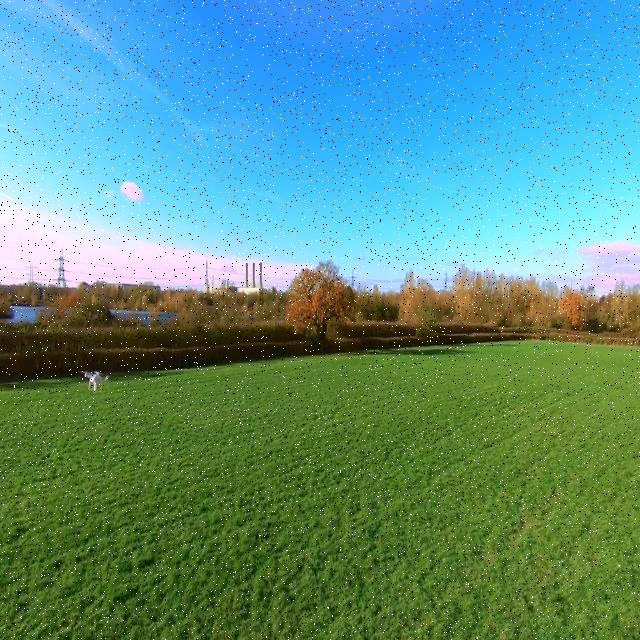UAV: (82, 367, 110, 394)
